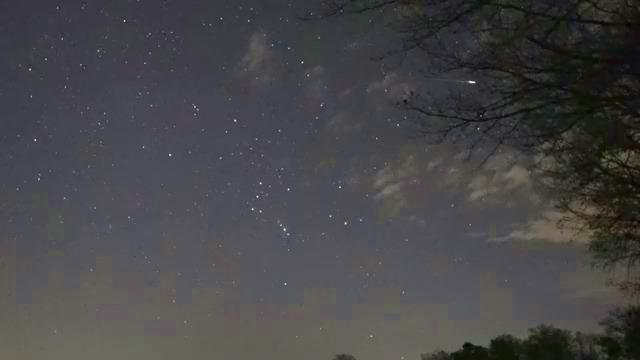meteorite: (388, 68, 484, 90)
